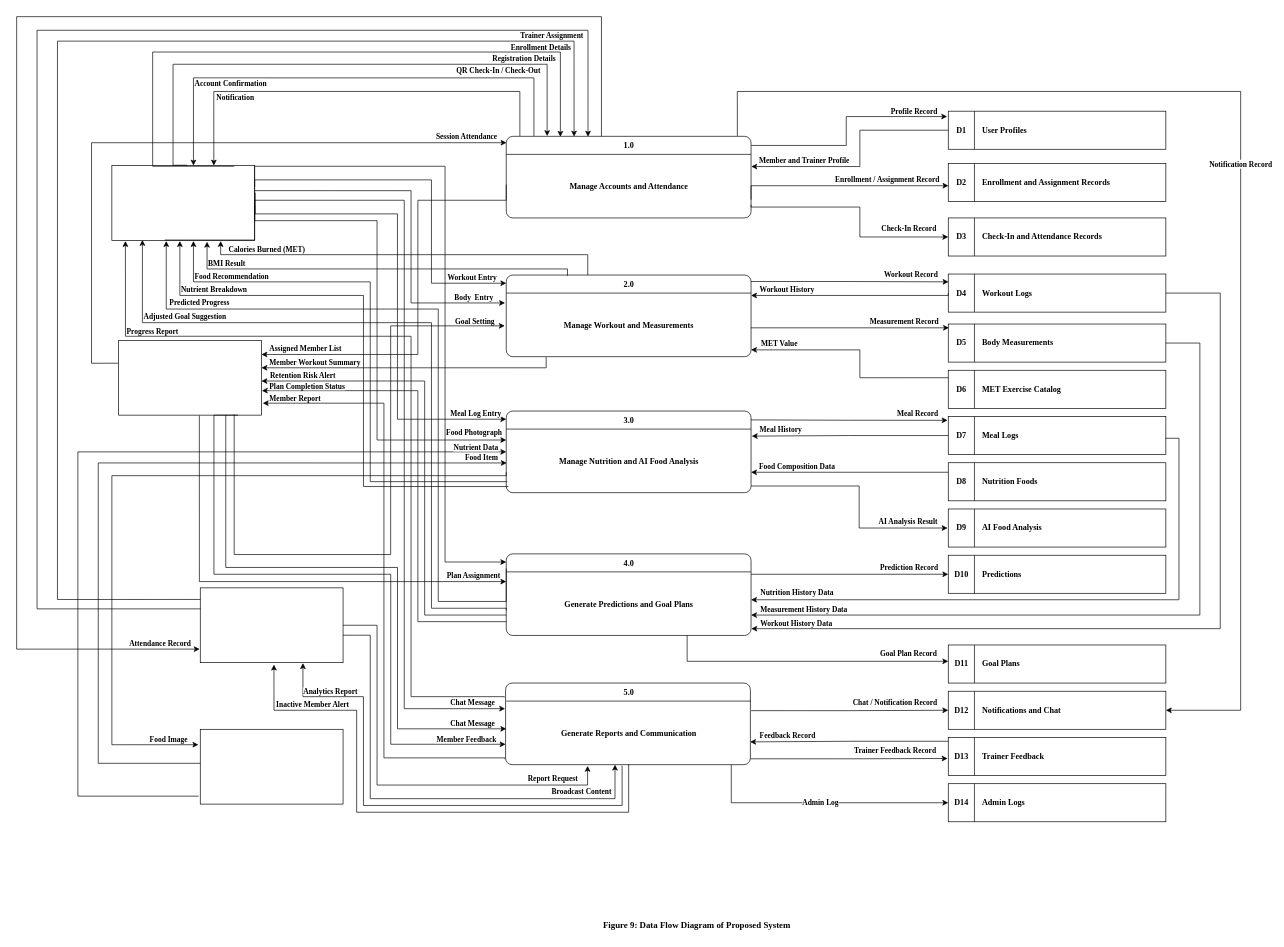
Image size: 1284x947. Some labels were removed from this diagram. The shapes that lost their labels are listed below. From the top down, each one's centre as x and y in pixels, then its label:
At (183,202): "MEMBER".
At (189,377): "TRAINER".
At (271,625): "ADMIN".
At (271,766): "GOOGLE GEMINI API".
